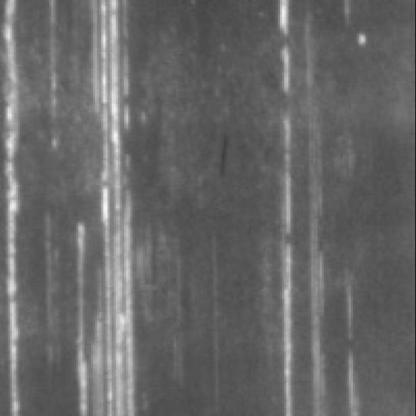scratches: (79, 6, 142, 416), (277, 4, 339, 416), (6, 4, 29, 416)
